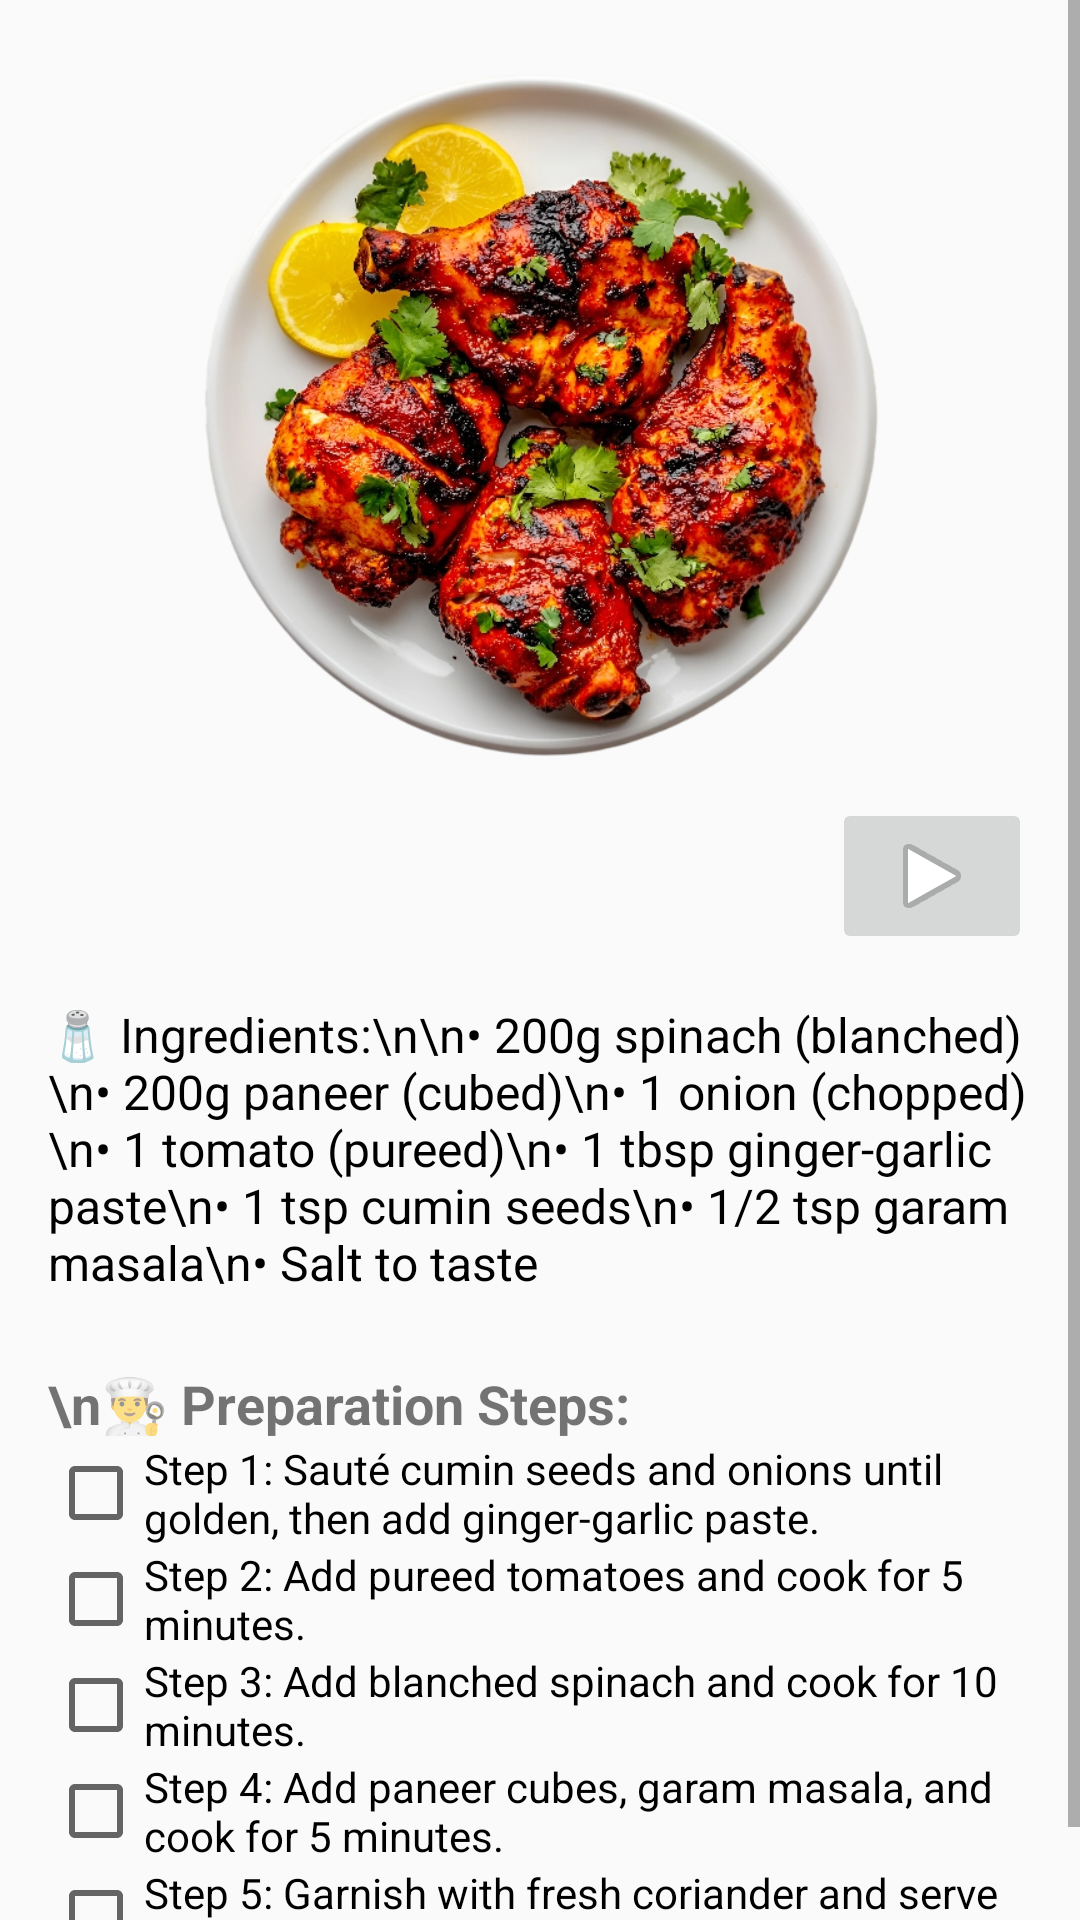

Screen size 1080w x 1920h. Icon name, then its box in pixels as (x1, y1, x2, y2):
play: (844, 816, 1020, 936)
